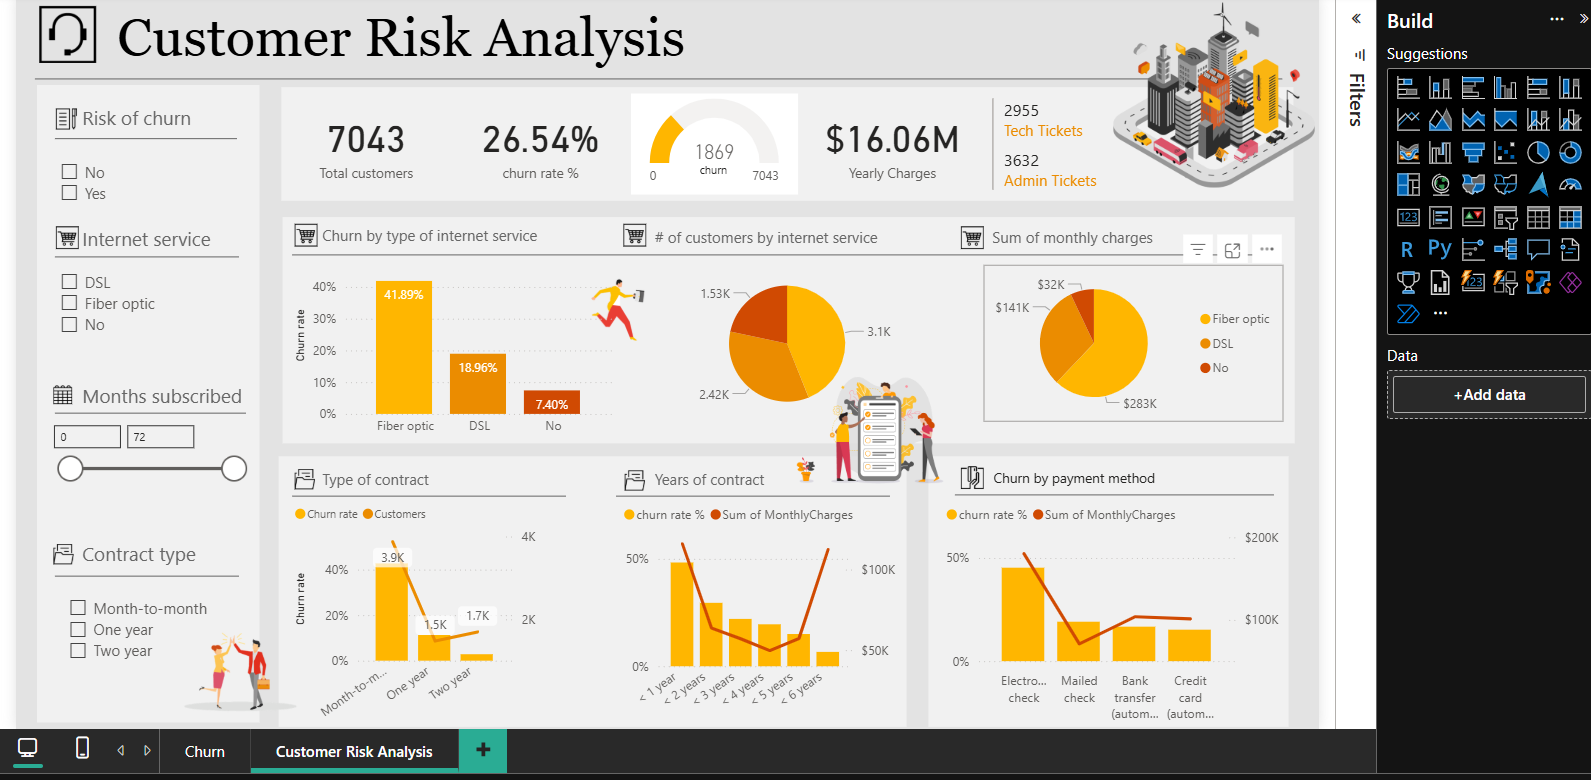

The page's visual inventory and layout, read from the dashboard file:
{"tool":"powerbi","page":{"name":"Customer Risk Analysis","canvas":[1280,720],"ordinal":1},"visuals":[{"type":"basicShape","box":[249.8,87.8,1013.8,113.8],"z":0},{"type":"basicShape","box":[892.2,448.5,360.8,271],"z":1000},{"type":"basicShape","box":[251.8,448.5,628.9,271],"z":2000},{"type":"textbox","box":[94.5,4.8,1167.1,75.2],"z":3000},{"type":"basicShape","box":[9,61,1244.3,40.1],"z":4000},{"type":"basicShape","box":[251.8,214.2,1013.8,226.7],"z":5000},{"type":"basicShape","box":[18.3,81,222.8,638.6],"z":6000},{"type":"card","fields":{"Values":["Count(churn.customerID)"]},"box":[261.4,89,164.9,113.8],"z":7000},{"type":"gauge","fields":{"MaxValue":["CountNonNull(churn.customerID)"],"Y":["churn.Count of Churn for Yes"]},"box":[603.8,96.2,164,99.4],"z":8000},{"type":"slicer","fields":{"Values":["churn.Contract"]},"box":[40.5,584.5,178.4,79.1],"z":9000},{"type":"card","fields":{"Values":["Sum(churn.TotalCharges)"]},"box":[778.4,89,164.9,113.8],"z":10000},{"type":"slicer","fields":{"Values":["churn.Churn"]},"box":[31.8,156.3,173.6,57.9],"z":11000},{"type":"image","box":[557.5,242.1,66.6,129.3],"z":12000},{"type":"image","box":[150.5,610.6,136,105.1],"z":13000},{"type":"slicer","title":"Number of months subscribed","fields":{"Values":["churn.tenure"]},"box":[24.1,410.9,210.3,70.4],"z":14000},{"type":"image","box":[17.4,4.8,67.5,65.6],"z":15000},{"type":"textbox","box":[59.8,102.2,174.6,40.5],"z":16000},{"type":"basicShape","box":[28,120.6,198.7,39.5],"z":17000},{"type":"textbox","box":[59.8,374.3,185.2,39.5],"z":18000},{"type":"basicShape","box":[28,389.7,207.4,38.6],"z":19000},{"type":"basicShape","box":[28,549.8,200.6,39.5],"z":20000},{"type":"image","box":[31.8,374.3,28,34.7],"z":21000},{"type":"textbox","box":[59.8,529.6,159.2,40.5],"z":22000},{"type":"image","box":[31.8,105.1,34.7,30.9],"z":23000},{"type":"image","box":[31.8,524.7,29.9,45.3],"z":24000},{"type":"textbox","box":[59.8,221.2,180.4,40.5],"z":25000},{"type":"basicShape","box":[28,237,200.6,38.6],"z":26000},{"type":"slicer","fields":{"Values":["churn.InternetService"]},"box":[31.8,263.3,200.6,78.1],"z":27000},{"type":"card","fields":{"Values":["churn.churn rate %"]},"box":[437,89,156.3,113.8],"z":28000},{"type":"lineClusteredColumnComboChart","fields":{"Category":["churn.Contract"],"Y":["churn.churn rate %"],"Y2":["CountNonNull(churn.customerID)"]},"box":[269.1,489,246.9,230.5],"z":29000},{"type":"lineClusteredColumnComboChart","fields":{"Y":["churn.churn rate %"],"Y2":["Sum(churn.MonthlyCharges)"],"Category":["churn.Loyalty"]},"box":[591.3,489,276.8,230.5],"z":30000},{"type":"textbox","box":[296.1,220,300.9,40.5],"z":31000},{"type":"basicShape","box":[261.4,234.4,982.9,39.5],"z":32000},{"type":"clusteredColumnChart","fields":{"Category":["churn.InternetService"],"Y":["churn.churn rate %"]},"box":[269.1,242.1,322.2,198.7],"z":33000},{"type":"pieChart","fields":{"Y":["Sum(churn.MonthlyCharges)"],"Category":["churn.InternetService"]},"box":[949.1,264.3,295.2,154.3],"z":34000},{"type":"pieChart","fields":{"Category":["churn.InternetService"],"Y":["CountNonNull(churn.customerID)"]},"box":[622.2,261.4,270.1,160.1],"z":35000},{"type":"textbox","box":[954,221.9,283.6,40.5],"z":36000},{"type":"textbox","box":[622.2,221.9,285.5,40.5],"z":37000},{"type":"basicShape","box":[261.4,471.7,288.4,39.5],"z":38000},{"type":"textbox","box":[296.1,459.1,237.3,40.5],"z":39000},{"type":"textbox","box":[622.2,459.1,270.1,40.5],"z":40000},{"type":"basicShape","box":[579.7,471.7,288.4,39.5],"z":41000},{"type":"lineClusteredColumnComboChart","fields":{"Y":["churn.churn rate %"],"Y2":["Sum(churn.MonthlyCharges)"],"Category":["churn.PaymentMethod"]},"box":[907.7,489,336.6,230.5],"z":42000},{"type":"basicShape","box":[911.5,469.8,332.8,39.5],"z":43000},{"type":"textbox","box":[954.3,459.1,270.1,40.5],"z":44000},{"type":"multiRowCard","fields":{"Values":["Sum(churn.numTechTickets)","Sum(churn.numAdminTickets)"]},"box":[954,96.2,207.4,99.4],"z":45000},{"type":"image","box":[922.1,452.4,31.8,39.5],"z":46000},{"type":"image","box":[593.2,452.4,29.9,45.3],"z":47000},{"type":"image","box":[269.1,451.4,29.9,45.3],"z":48000},{"type":"image","box":[34.7,219.9,31.8,34.7],"z":49000},{"type":"image","box":[269.1,217,31.8,34.7],"z":50000},{"type":"image","box":[591.3,217,31.8,34.7],"z":51000},{"type":"image","box":[922.1,219.9,31.8,34.7],"z":52000},{"type":"textbox","box":[666.5,156.3,57.9,28.9],"z":53000},{"type":"image","box":[1072.6,0,207.4,193.9],"z":54000},{"type":"image","box":[752.4,361.7,191,129.3],"z":56000}]}

Visuals, with their boxes on the page's 1280x720 design canvas (x1, y1, x2, y2). These are canvas units, not pixel positions in the 1591x780 screenshot, which may show the page scaled, cropped or inside an application window:
basicShape: rect(250, 88, 1264, 202)
basicShape: rect(892, 448, 1253, 720)
basicShape: rect(252, 448, 881, 720)
textbox: rect(94, 5, 1262, 80)
basicShape: rect(9, 61, 1253, 101)
basicShape: rect(252, 214, 1266, 441)
basicShape: rect(18, 81, 241, 720)
card - Count(churn.customerID): rect(261, 89, 426, 203)
gauge - CountNonNull(churn.customerID) x churn.Count of Churn for Yes: rect(604, 96, 768, 196)
slicer - churn.Contract: rect(40, 584, 219, 664)
card - Sum(churn.TotalCharges): rect(778, 89, 943, 203)
slicer - churn.Churn: rect(32, 156, 205, 214)
image: rect(558, 242, 624, 371)
image: rect(150, 611, 286, 716)
"Number of months subscribed" slicer: rect(24, 411, 234, 481)
image: rect(17, 5, 85, 70)
textbox: rect(60, 102, 234, 143)
basicShape: rect(28, 121, 227, 160)
textbox: rect(60, 374, 245, 414)
basicShape: rect(28, 390, 235, 428)
basicShape: rect(28, 550, 229, 589)
image: rect(32, 374, 60, 409)
textbox: rect(60, 530, 219, 570)
image: rect(32, 105, 66, 136)
image: rect(32, 525, 62, 570)
textbox: rect(60, 221, 240, 262)
basicShape: rect(28, 237, 229, 276)
slicer - churn.InternetService: rect(32, 263, 232, 341)
card - churn.churn rate %: rect(437, 89, 593, 203)
lineClusteredColumnComboChart - churn.Contract x churn.churn rate %: rect(269, 489, 516, 720)
lineClusteredColumnComboChart - churn.churn rate % x Sum(churn.MonthlyCharges): rect(591, 489, 868, 720)
textbox: rect(296, 220, 597, 260)
basicShape: rect(261, 234, 1244, 274)
clusteredColumnChart - churn.InternetService x churn.churn rate %: rect(269, 242, 591, 441)
pieChart - Sum(churn.MonthlyCharges) x churn.InternetService: rect(949, 264, 1244, 419)
pieChart - churn.InternetService x CountNonNull(churn.customerID): rect(622, 261, 892, 422)
textbox: rect(954, 222, 1238, 262)
textbox: rect(622, 222, 908, 262)
basicShape: rect(261, 472, 550, 511)
textbox: rect(296, 459, 533, 500)
textbox: rect(622, 459, 892, 500)
basicShape: rect(580, 472, 868, 511)
lineClusteredColumnComboChart - churn.churn rate % x Sum(churn.MonthlyCharges): rect(908, 489, 1244, 720)
basicShape: rect(912, 470, 1244, 509)
textbox: rect(954, 459, 1224, 500)
multiRowCard - Sum(churn.numTechTickets) x Sum(churn.numAdminTickets): rect(954, 96, 1161, 196)
image: rect(922, 452, 954, 492)
image: rect(593, 452, 623, 498)
image: rect(269, 451, 299, 497)
image: rect(35, 220, 66, 255)
image: rect(269, 217, 301, 252)
image: rect(591, 217, 623, 252)
image: rect(922, 220, 954, 255)
textbox: rect(666, 156, 724, 185)
image: rect(1073, 0, 1280, 194)
image: rect(752, 362, 943, 491)
